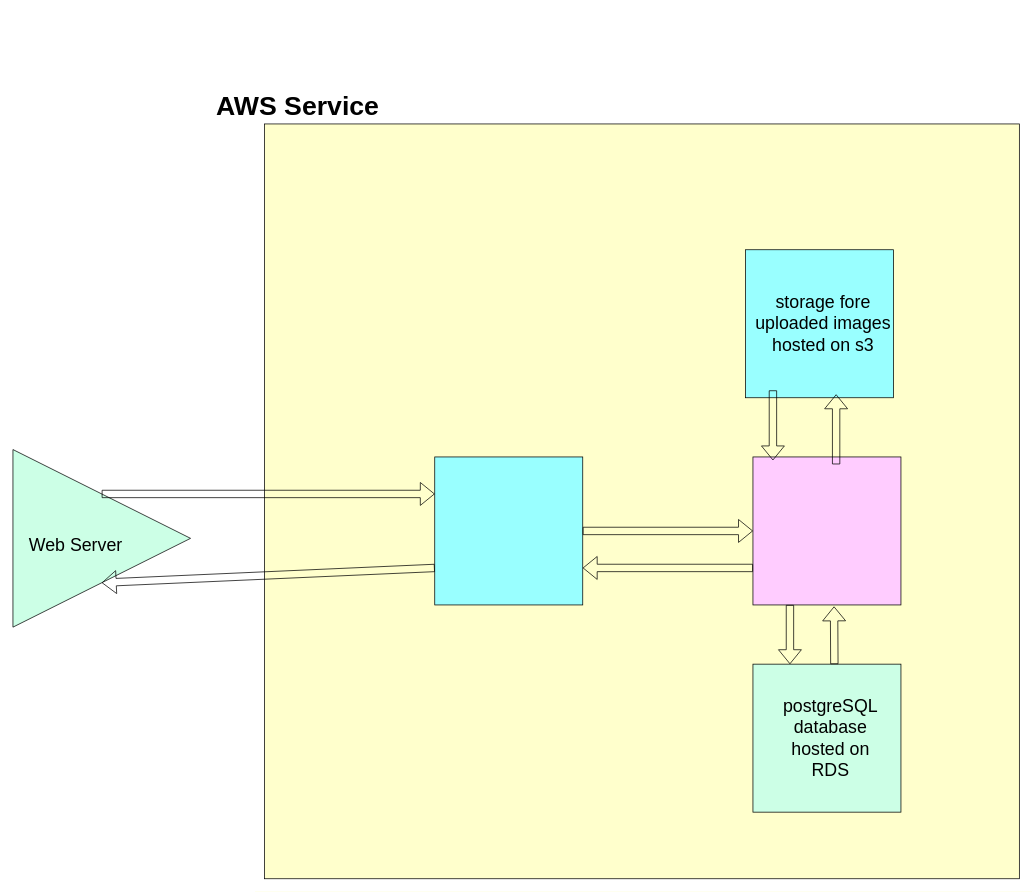
This 1032x892 diagram has some shape labels left out. The shapes that lost their labels are listed below. From the top down, each one's centre as x and y in pixels, then its label:
(508,530): Angular frontend hosted on s3
(826,530): Node backend hosted on EB
